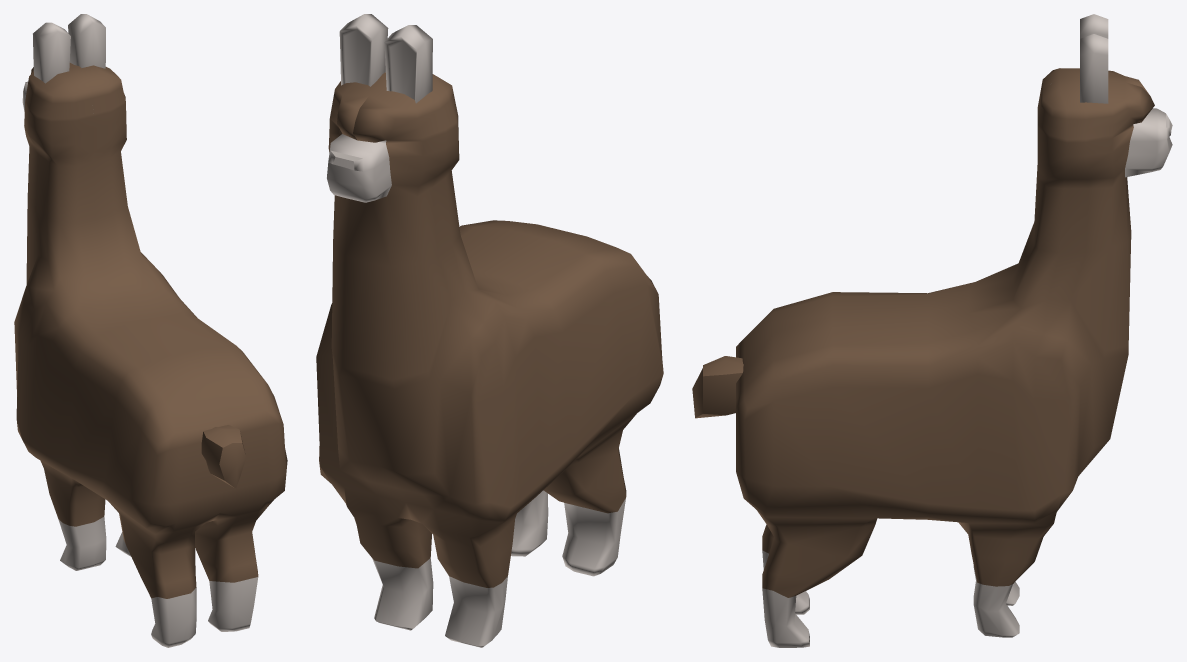
Rendered from lama.fbx.
3 views of the same model, side by side, from view 1: azimuth 30°, elevation 25°; view 2: azimuth 150°, elevation 25°; view 3: azimuth 270°, elevation 25° (orthographic). The views are drawn at different scales.
Parts seen in each view (by area): view 1: Lama1; view 2: Lama1; view 3: Lama1.
Boxes of the visible parts, bbox=[...] form: Lama1: bbox=[14, 14, 287, 647]; Lama1: bbox=[316, 14, 663, 647]; Lama1: bbox=[692, 14, 1172, 647].
Size of the model in its own units: 84.87 by 263 by 191.
